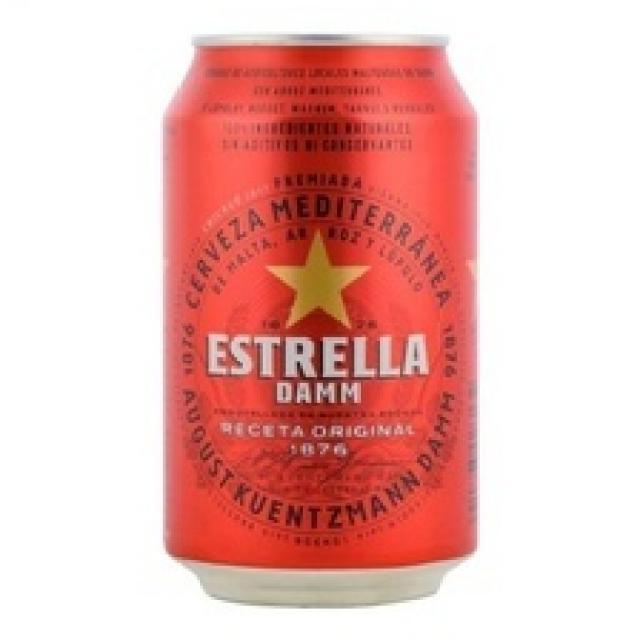recyclable: (158, 31, 478, 610)
